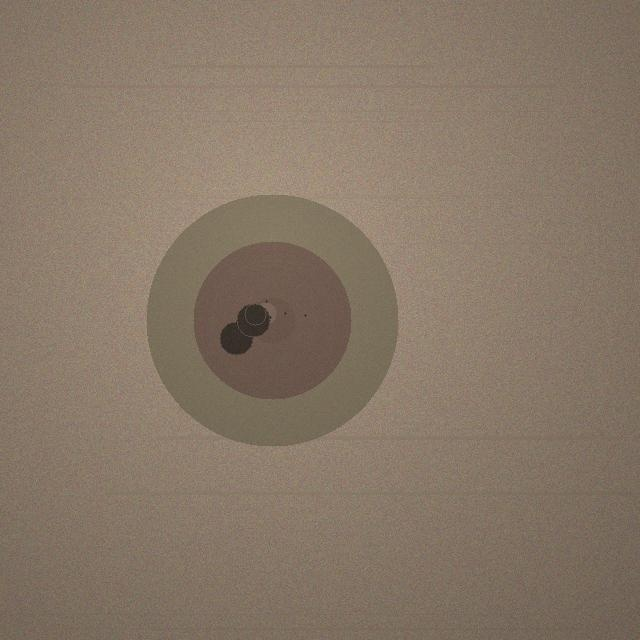shrinkage: (146, 194, 398, 446)
